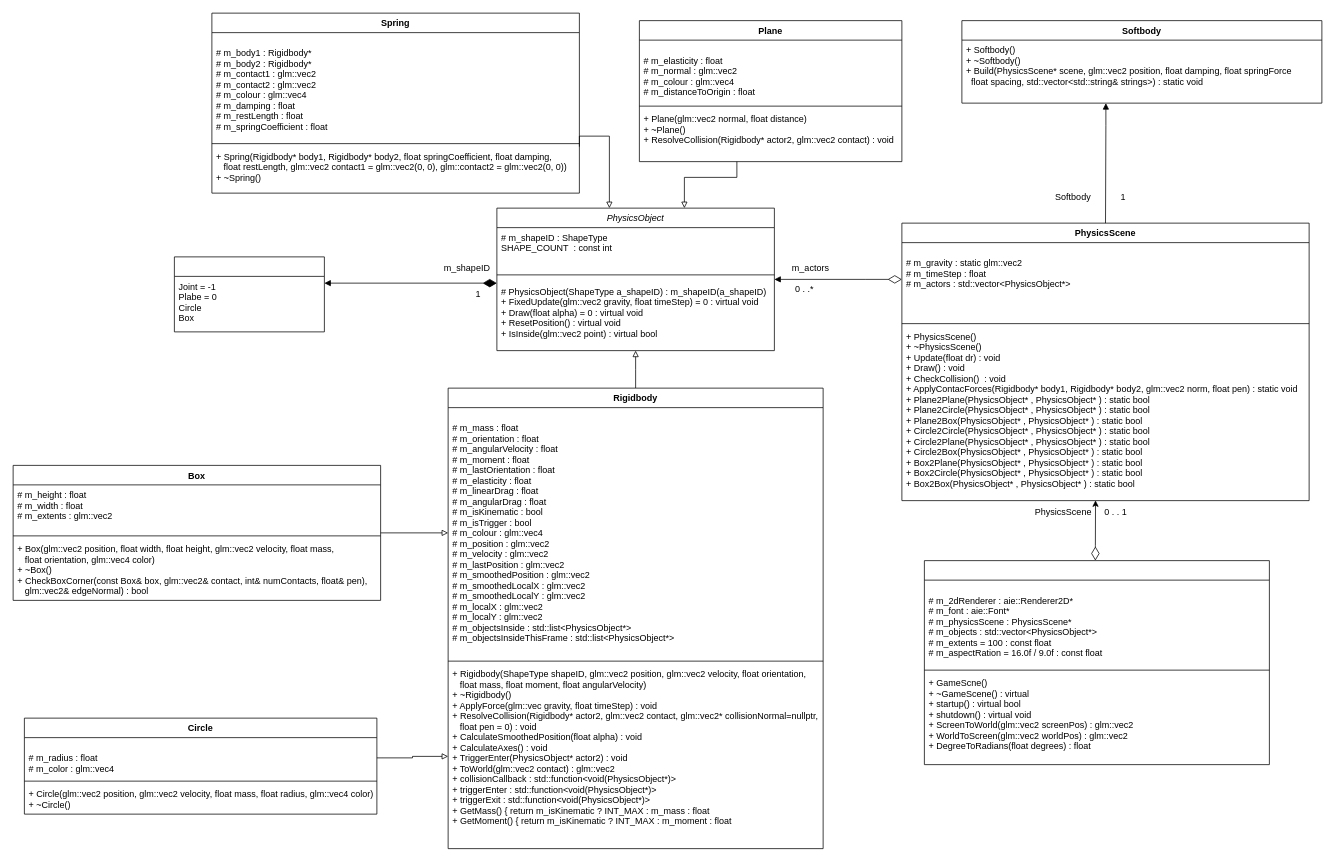
This 1335x864 diagram has some shape labels left out. The shapes that lost their labels are listed below. From the top down, each one's box as (x1, y1, x2, y2) in pixels, then its label:
(174, 256, 324, 332): ShapeType : enum
(924, 560, 1269, 765): PhysicsApp
